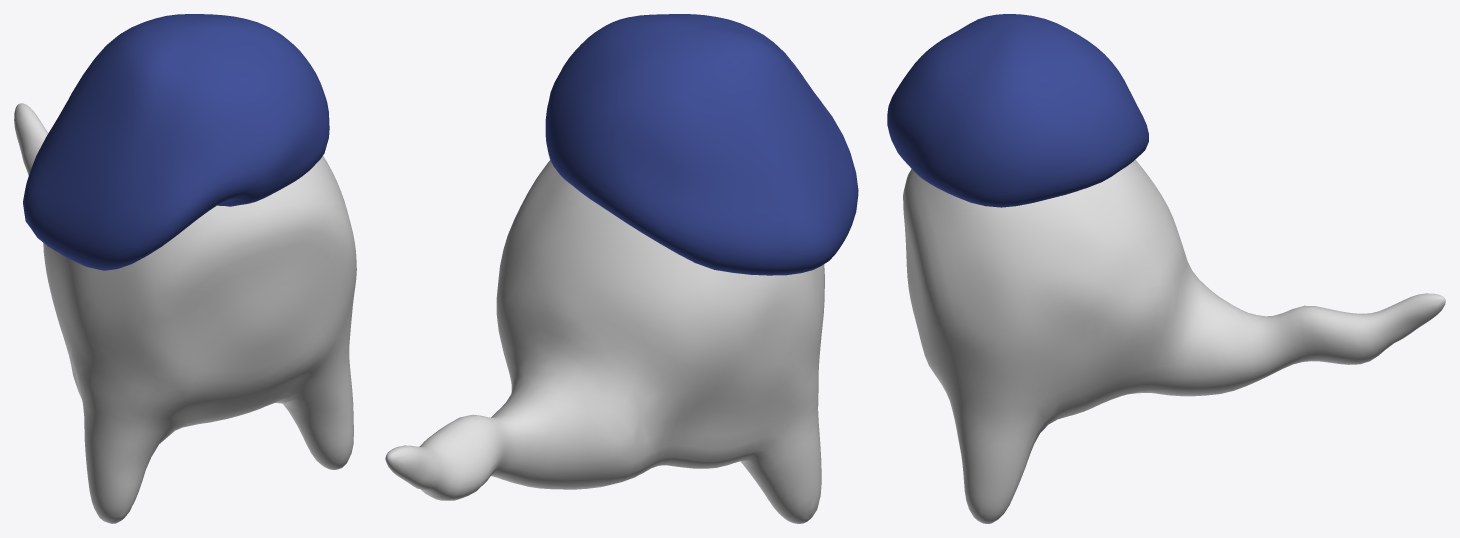
The model's file is SM_EnemyCharacter_ReviveGhost.fbx.
The picture shows the model from 3 angles, left to right: view 1: azimuth 30°, elevation 25°; view 2: azimuth 150°, elevation 25°; view 3: azimuth 270°, elevation 25°; orthographic projection. The views are drawn at different scales.
Parts seen in each view (by area): view 1: SM_ReviveGhost_Body; view 2: SM_ReviveGhost_Body; view 3: SM_ReviveGhost_Body.
Boxes of the visible parts, x1,y1,x2,y2 form: SM_ReviveGhost_Body: (14, 14, 356, 523); SM_ReviveGhost_Body: (385, 14, 858, 523); SM_ReviveGhost_Body: (887, 14, 1445, 523).
Size of the model in its own units: 0.4464 by 0.6623 by 0.7703.
